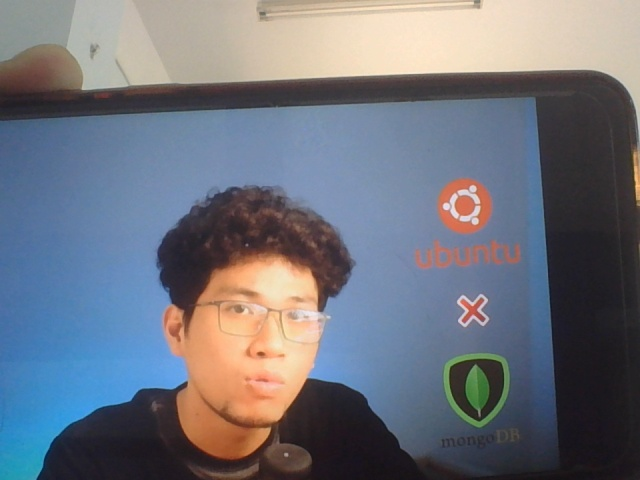fake: (170, 197, 334, 429)
